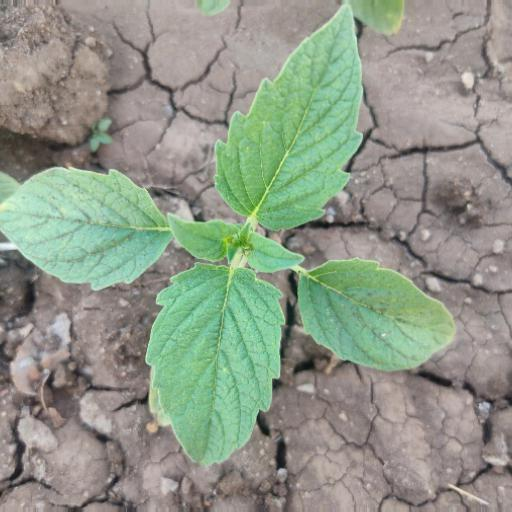crop: (1, 4, 458, 464)
